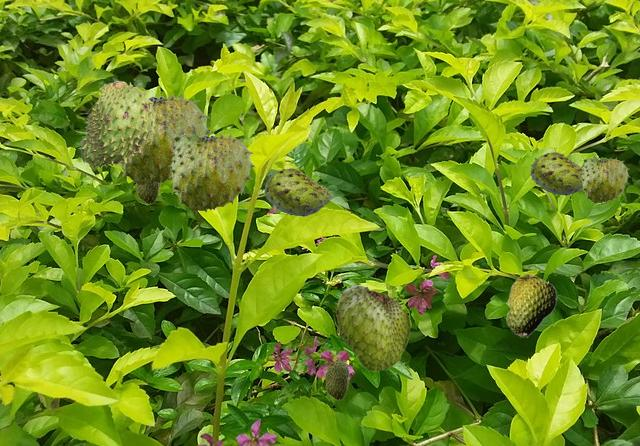guyabano: (114, 93, 210, 185), (168, 129, 254, 211), (77, 81, 154, 168), (336, 283, 409, 370), (505, 273, 556, 337), (264, 168, 330, 215), (580, 155, 629, 202), (530, 152, 582, 194), (324, 357, 349, 399), (135, 183, 160, 203)
